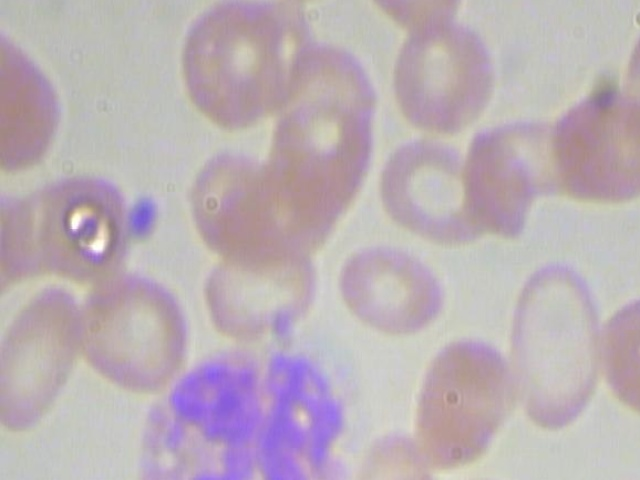Platelets: (120, 186, 167, 243)
RBC: (500, 257, 602, 442), (175, 0, 304, 135), (400, 330, 509, 474), (77, 261, 194, 394), (0, 279, 89, 444), (372, 136, 499, 247), (389, 15, 491, 147), (203, 232, 318, 344), (548, 86, 640, 213), (330, 242, 453, 335), (599, 255, 640, 436), (418, 476, 545, 480)
WBC: (126, 331, 375, 480)
